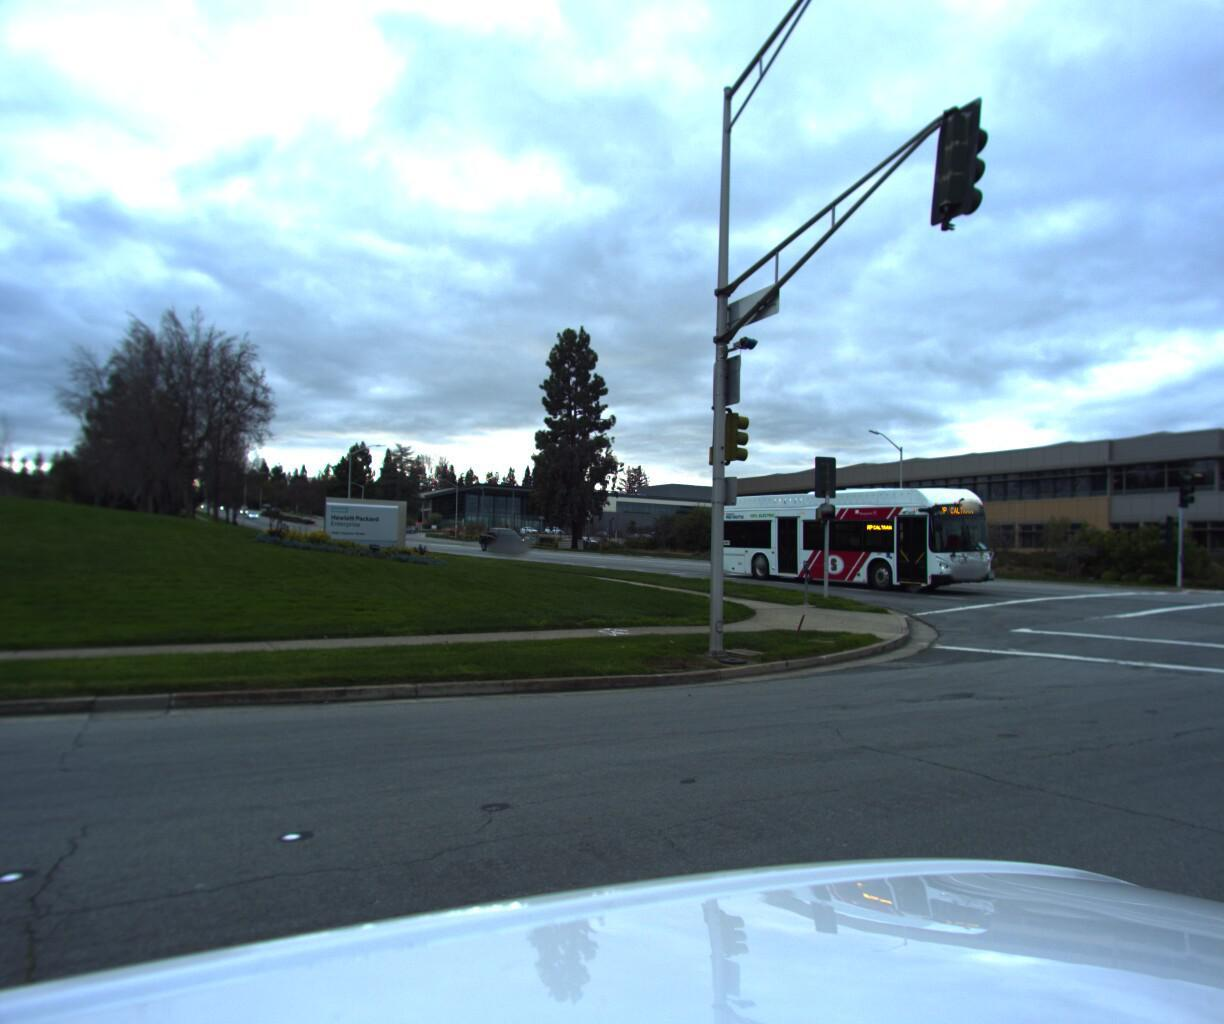bus: (693, 475, 1013, 592)
car: (474, 528, 526, 553)
